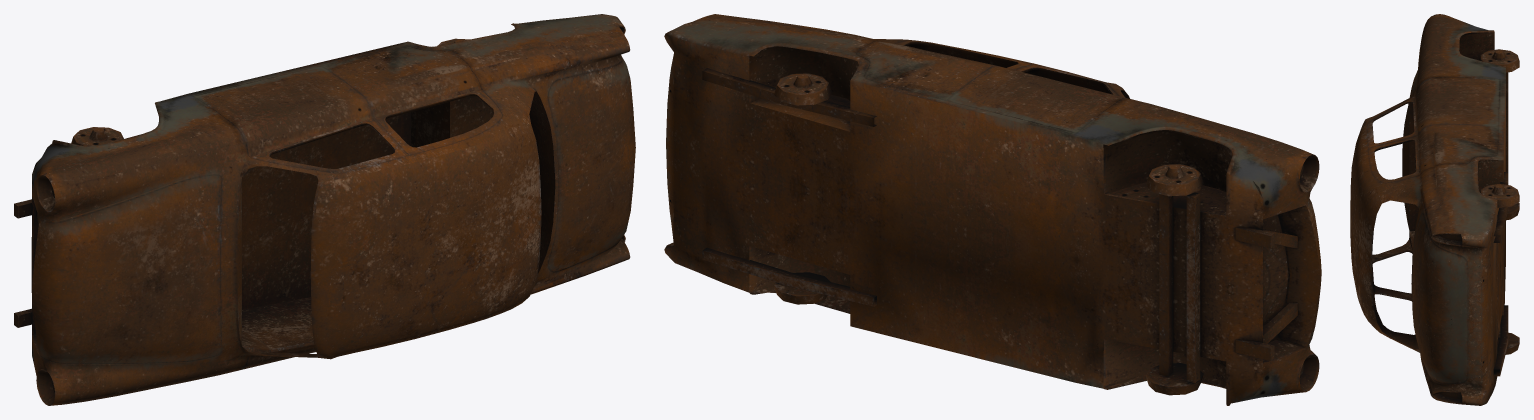
Rendered from Car_B.obj.
3 views of the same model, side by side, from view 1: azimuth 30°, elevation 25°; view 2: azimuth 150°, elevation 25°; view 3: azimuth 270°, elevation 25° (orthographic). The views are drawn at different scales.
Parts seen in each view (by area): view 1: Object005_Material_#107_0; view 2: Object005_Material_#107_0; view 3: Object005_Material_#107_0.
Part boxes in pixels (x1=…): Object005_Material_#107_0: x1=14, y1=14, x2=635, y2=405; Object005_Material_#107_0: x1=664, y1=14, x2=1321, y2=405; Object005_Material_#107_0: x1=1350, y1=14, x2=1519, y2=405.
Bounding box in the file's own units: 3.54 × 1.39 × 1.11.
Materials: 1 (1 with a texture image).
